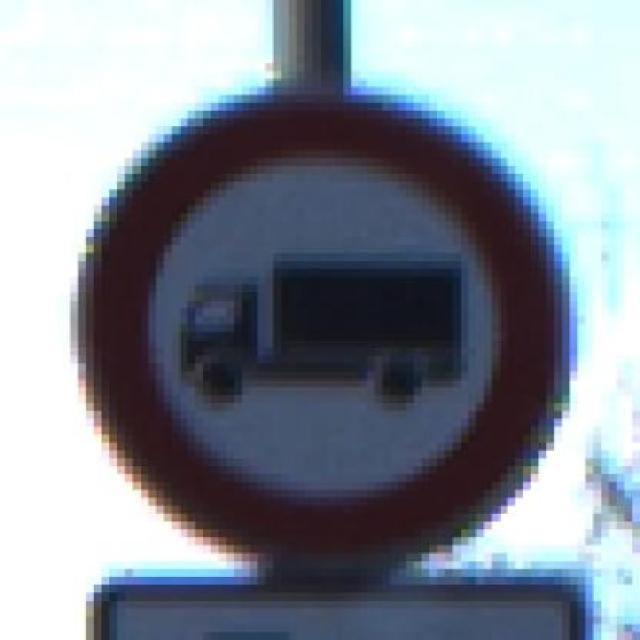Truck traffic is prohibited: (55, 86, 593, 569)
